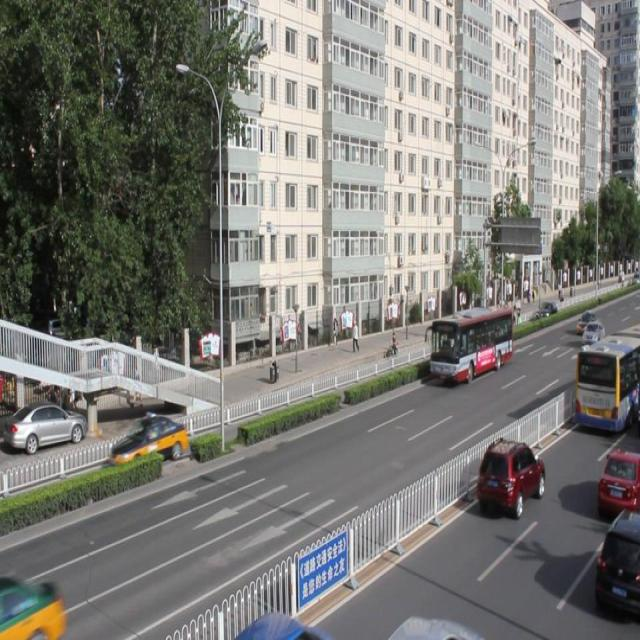car: (476, 436, 543, 517), (594, 509, 640, 614), (1, 575, 66, 640), (109, 415, 187, 469), (596, 446, 640, 516)
van: (576, 327, 640, 427), (429, 305, 512, 379)
